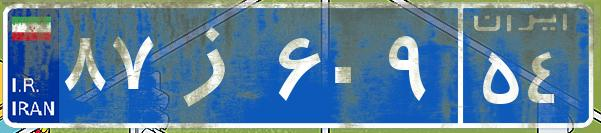0: (330, 28, 385, 110)
4: (525, 38, 570, 115)
5: (475, 38, 525, 113)
6: (273, 28, 330, 110)
7: (110, 28, 158, 105)
8: (57, 26, 110, 107)
9: (385, 28, 445, 110)
ز: (158, 15, 273, 115)
